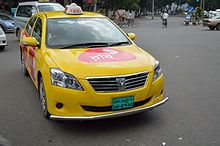bicycle: (160, 18, 167, 29)
car: (1, 12, 16, 33), (202, 15, 220, 31)
rickshaw: (117, 8, 138, 29)
suv: (13, 1, 67, 39)
taxi: (19, 3, 170, 119)
